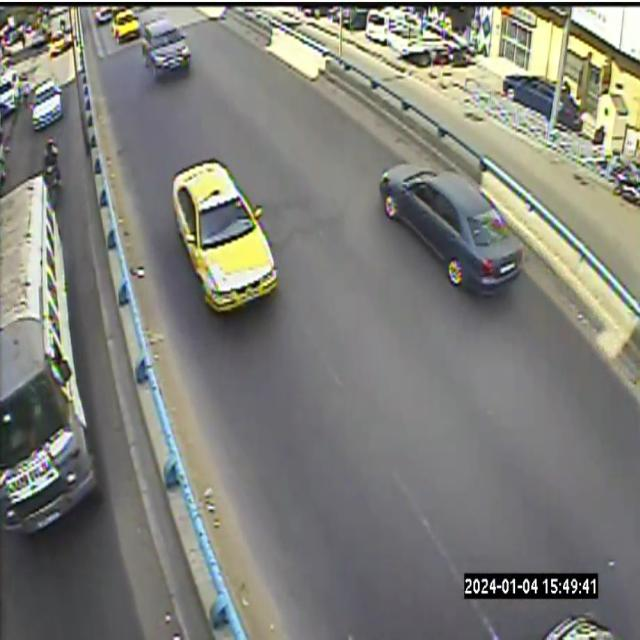car: (379, 164, 522, 292), (172, 158, 277, 312), (143, 18, 191, 77), (111, 9, 139, 43), (94, 6, 113, 25)
